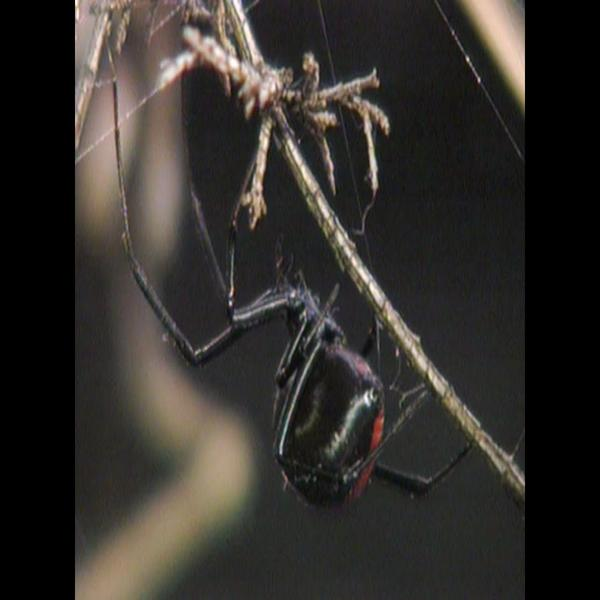Redback_Spider: (111, 80, 472, 513)
